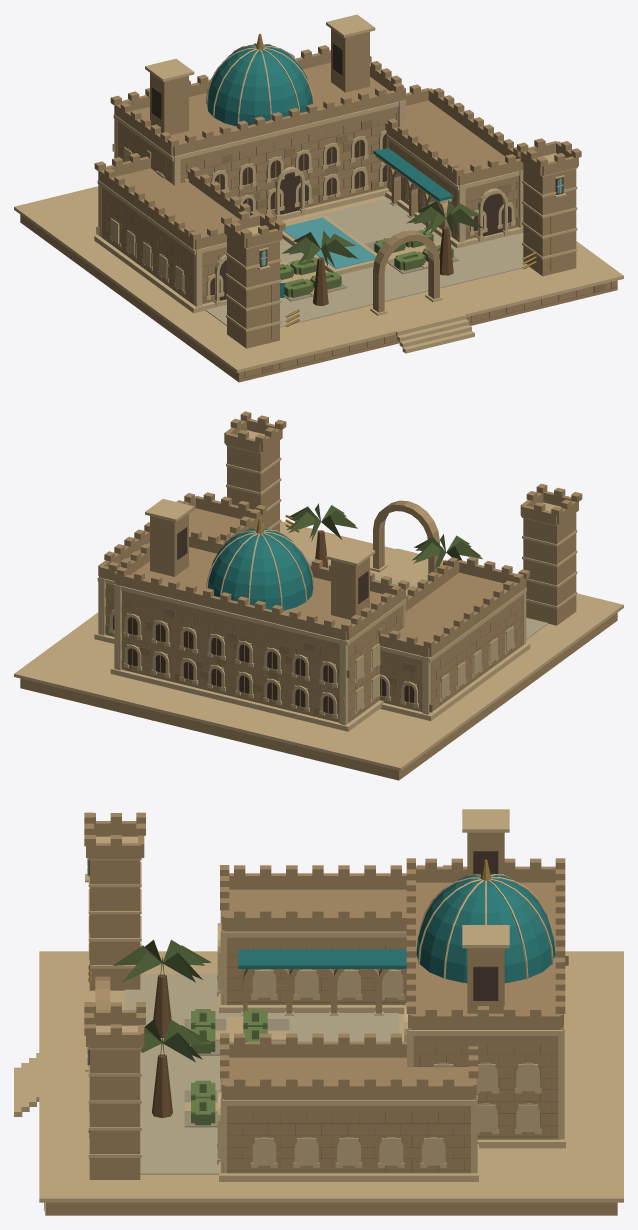
File: desert.glb
3 renders of one model, top to bottom at view 1: azimuth 30°, elevation 25°; view 2: azimuth 150°, elevation 25°; view 3: azimuth 270°, elevation 25°, orthographic. The views are drawn at different scales.
Visible parts, largest first — view 1: oasis-courts, precinct-base, oasis-courts-roof, inhabited-detail; view 2: oasis-courts, precinct-base, oasis-courts-roof; view 3: oasis-courts, precinct-base, oasis-courts-roof, inhabited-detail.
Boxes of the visible parts, x1,y1,x2,y2 form: oasis-courts: [94, 14, 581, 348]; precinct-base: [14, 186, 623, 382]; oasis-courts-roof: [94, 33, 523, 249]; inhabited-detail: [239, 216, 617, 379]; oasis-courts: [94, 411, 582, 731]; precinct-base: [14, 521, 623, 780]; oasis-courts-roof: [98, 492, 529, 657]; oasis-courts: [84, 809, 568, 1181]; precinct-base: [39, 951, 623, 1215]; oasis-courts-roof: [220, 858, 565, 1099]; inhabited-detail: [14, 914, 91, 1211].
Bounding box in the file's own units: 23.5 × 10.4 × 24.52.
